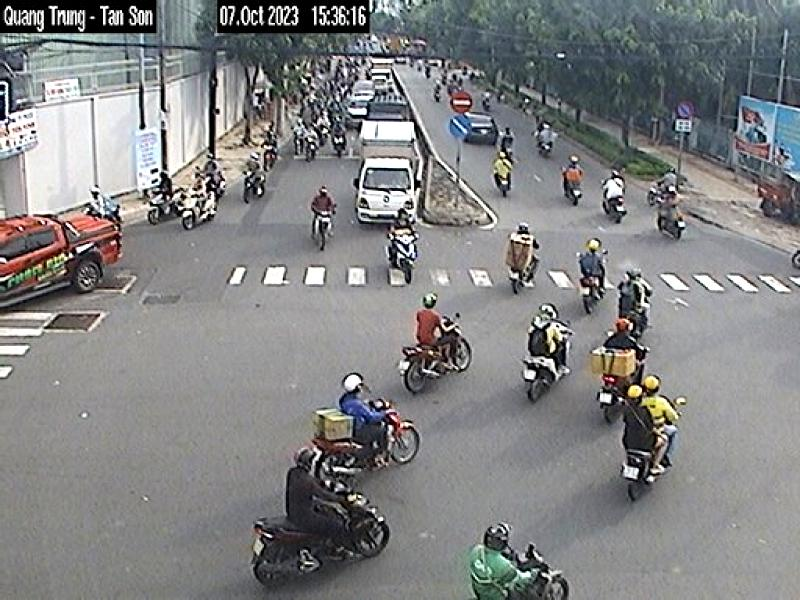car: (0, 208, 127, 309), (454, 106, 500, 146), (346, 94, 371, 126)
motorcycle: (247, 485, 392, 591), (311, 392, 426, 486), (390, 312, 480, 395), (520, 318, 579, 410), (492, 546, 572, 600), (614, 447, 671, 503), (385, 226, 422, 286), (598, 368, 634, 423), (177, 189, 226, 229), (309, 208, 336, 258), (143, 191, 182, 225), (576, 274, 608, 315)
truck: (355, 117, 421, 232)
